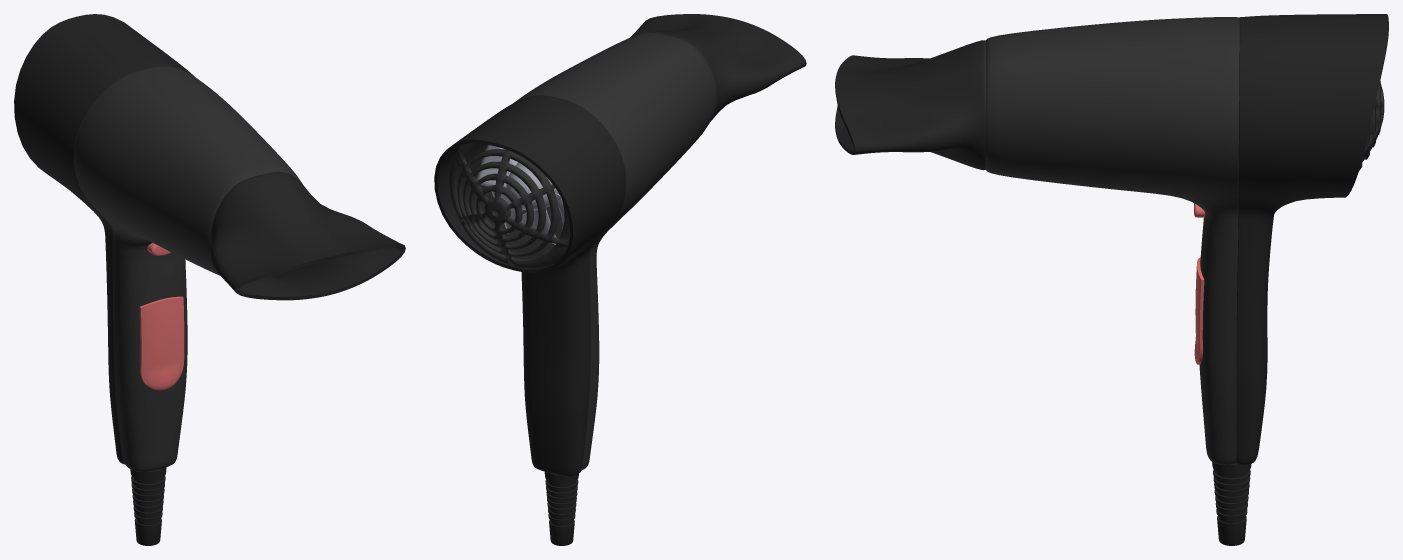
Rendered from hairdryer.glb.
The picture shows the model from 3 angles, left to right: view 1: azimuth 30°, elevation 25°; view 2: azimuth 150°, elevation 25°; view 3: azimuth 270°, elevation 25°; orthographic projection. The views are drawn at different scales.
Visible parts, largest first — view 1: Cube, object_135.003_Button_0, Cylinder.003; view 2: Cube, object_1.002_Hairdryer1_0, Cylinder.003, object_143.003_BlackMatt_0, Cylinder.001; view 3: Cube, Cylinder.003, object_135.003_Button_0, object_1.002_Hairdryer1_0.
Boxes of the visible parts, x1,y1,x2,y2 form: Cube: (14,14,405,471); object_135.003_Button_0: (139,296,184,390); Cylinder.003: (130,467,166,545); Cube: (434,14,806,476); object_1.002_Hairdryer1_0: (449,143,569,268); Cylinder.003: (544,471,578,545); object_143.003_BlackMatt_0: (476,145,564,244); Cylinder.001: (506,162,560,210); Cube: (835,14,1388,464); Cylinder.003: (1212,462,1251,545); object_135.003_Button_0: (1194,257,1204,364); object_1.002_Hairdryer1_0: (1359,81,1384,170).
Size of the model in its own units: 133 by 352 by 342.
